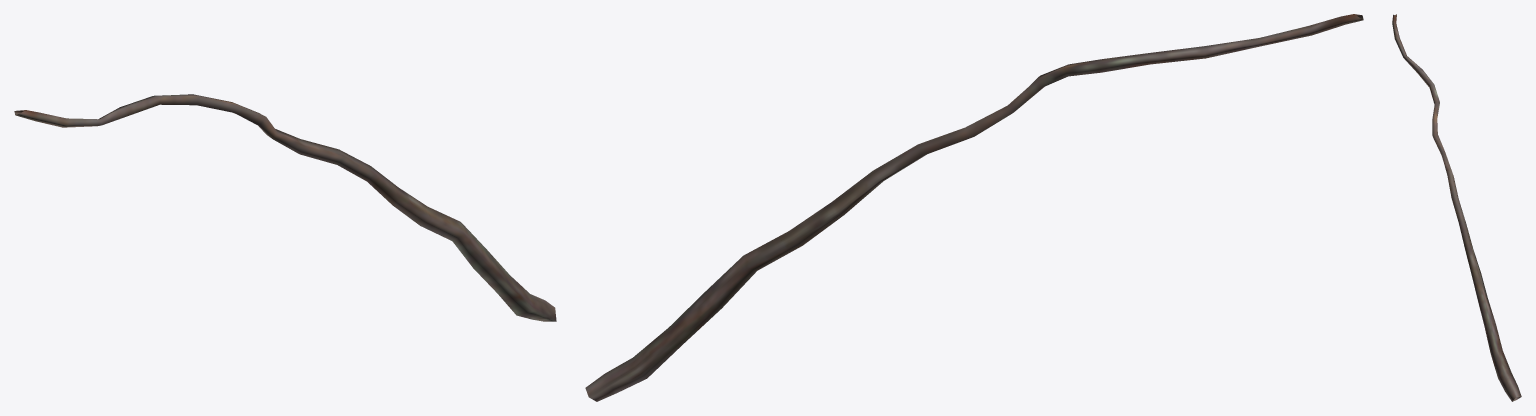
Rendered from SM_Stick_09.fbx.
3 renders of one model, left to right at view 1: azimuth 30°, elevation 25°; view 2: azimuth 150°, elevation 25°; view 3: azimuth 270°, elevation 25°, orthographic. The views are drawn at different scales.
Parts seen in each view (by area): view 1: SM_Stick_09_LOD0; view 2: SM_Stick_09_LOD0; view 3: SM_Stick_09_LOD0.
Boxes of the visible parts, <box> form: SM_Stick_09_LOD0: <box>14,94,556,321</box>; SM_Stick_09_LOD0: <box>585,14,1363,401</box>; SM_Stick_09_LOD0: <box>1392,14,1521,401</box>.
Bounding box in the file's own units: 193 × 65.58 × 127.
